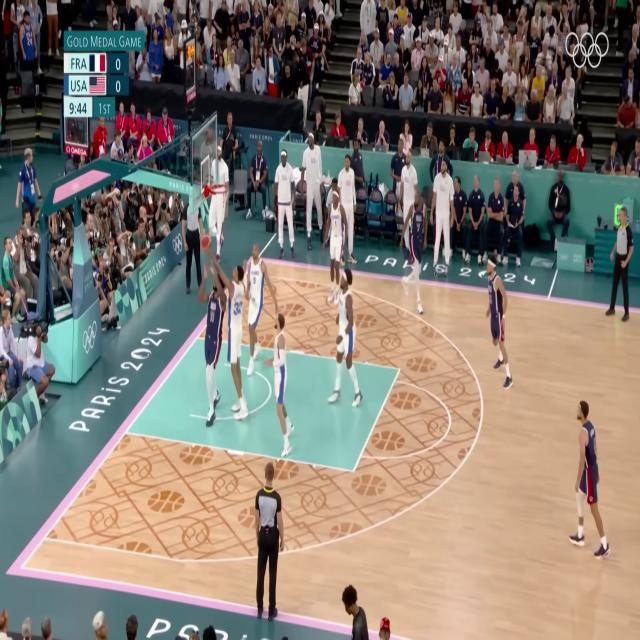ball-handler: (199, 227, 253, 432), (192, 231, 226, 424)
player: (566, 401, 612, 576), (231, 237, 277, 383), (328, 264, 367, 428), (263, 316, 304, 457), (483, 255, 521, 398), (396, 189, 434, 321), (315, 175, 348, 305)
